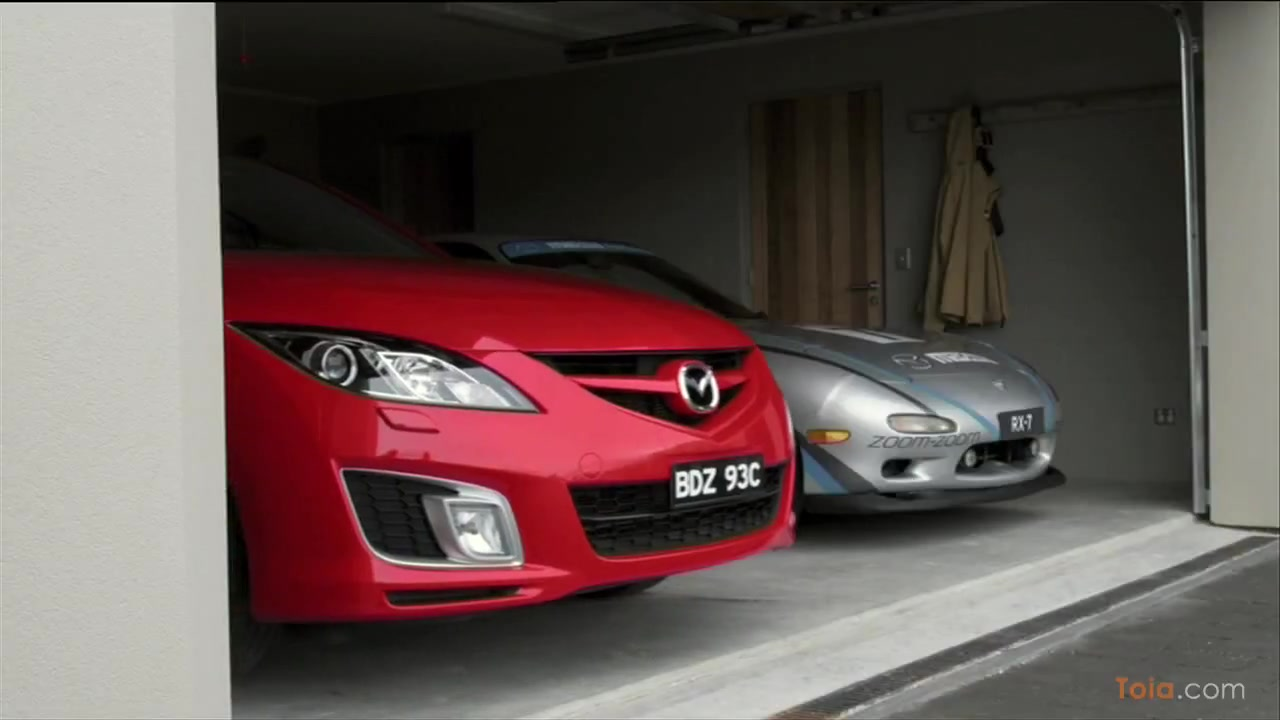car: (220, 146, 801, 631)
